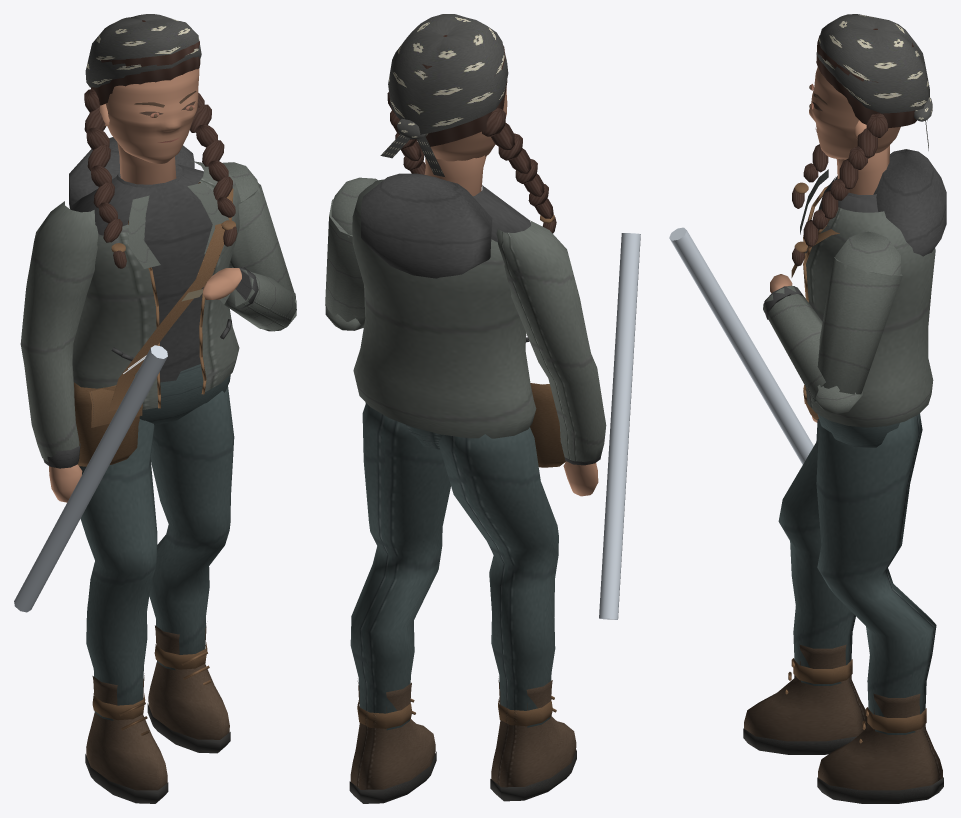
The model's file is HERO-01_tais-tube.glb.
3 renders of one model, left to right at view 1: azimuth 30°, elevation 25°; view 2: azimuth 150°, elevation 25°; view 3: azimuth 270°, elevation 25°, orthographic. The views are drawn at different scales.
Visible parts, largest first — view 1: tais · metal; view 2: tais · metal; view 3: tais · metal.
Boxes of the visible parts, left/top/right/bottom form: tais · metal: left=14, top=14, right=296, bottom=803; tais · metal: left=325, top=14, right=640, bottom=803; tais · metal: left=669, top=14, right=946, bottom=803.
Bounding box in the file's own units: 0.6458 × 1.62 × 0.5472.
Materials: 4 (2 with a texture image).
